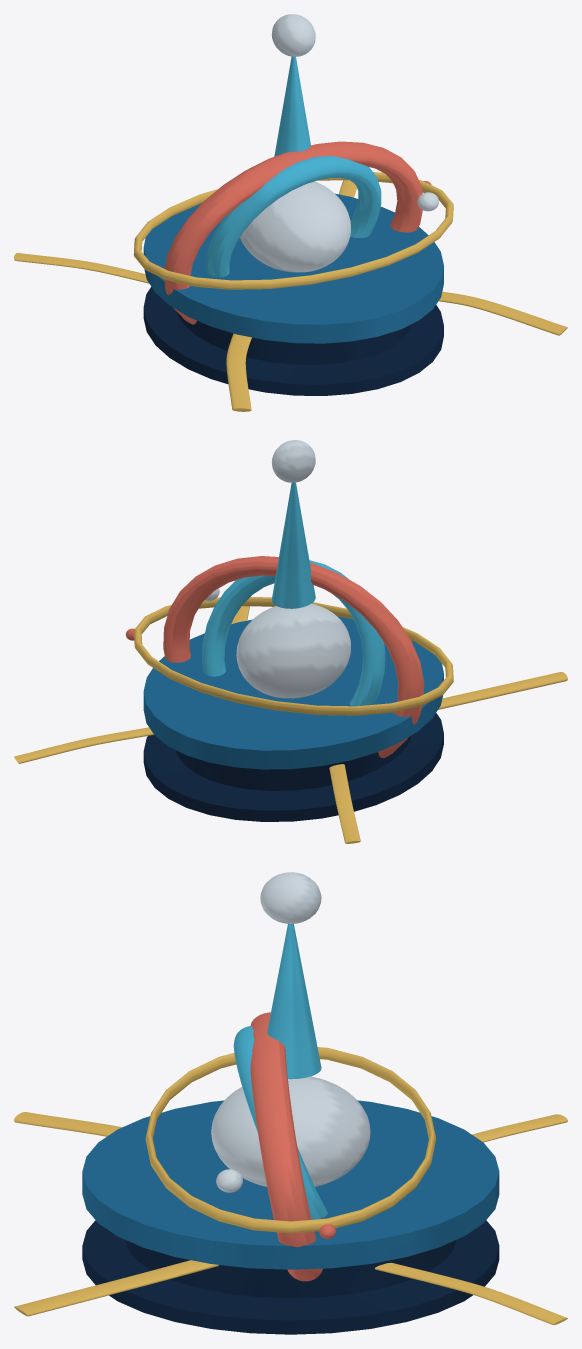
Rendered from 0050_天文图鉴_银河系.glb.
3 views of the same model, one above another, from view 1: azimuth 30°, elevation 25°; view 2: azimuth 150°, elevation 25°; view 3: azimuth 270°, elevation 25° (orthographic). The views are drawn at different scales.
Visible parts, largest first — view 1: card_0050; view 2: card_0050; view 3: card_0050.
Part boxes in pixels (<box>): card_0050: <box>14,14,567,411</box>; card_0050: <box>14,440,567,843</box>; card_0050: <box>14,872,567,1334</box>.
Bounding box in the file's own units: 1.14 × 1 × 1.27.
